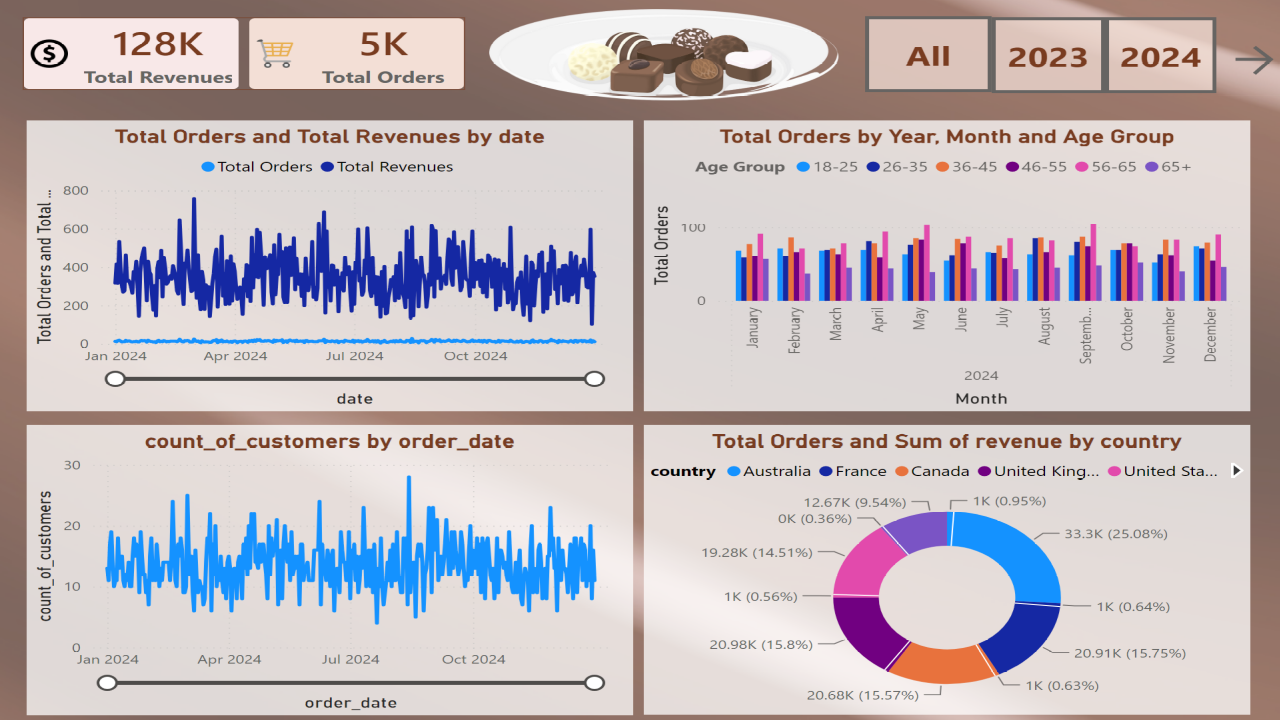

The page's visual inventory and layout, read from the dashboard file:
{"tool":"powerbi","page":{"name":"Summary By Date","canvas":[960,720],"ordinal":0},"visuals":[{"type":"lineChart","fields":{"Category":["Calendar.date"],"Y":["Sales.Total Orders","Sales.Total Revenues"]},"box":[19.8,119.1,455,287.7],"z":0},{"type":"donutChart","fields":{"Category":["Country_Mapping.country"],"Y":["Sales.Total Orders","Sum(Sales.revenue)"]},"box":[483.3,419.5,455,286.3],"z":1000},{"type":"lineChart","fields":{"Category":["Sales.order_date"],"Y":["Sales.count_of_customers"]},"box":[19.8,419.5,455,287],"z":2000},{"type":"clusteredColumnChart","fields":{"Category":["Calendar.date.Variation.Date Hierarchy.Year","Calendar.date.Variation.Date Hierarchy.Month"],"Series":["Customers.Age Group"],"Y":["Sales.Total Orders"]},"box":[483.3,119.1,455,287.7],"z":3000},{"type":"cardVisual","fields":{"Data":["Sales.Total Revenues","Sales.Total Orders"]},"box":[0,0,367.1,106.3],"z":4000},{"type":"actionButton","box":[744.1,17,85,75.1],"z":5000},{"type":"actionButton","box":[829.1,17,83.6,75.1],"z":6000},{"type":"actionButton","box":[649.1,15.6,95,75.1],"z":7000},{"type":"image","box":[367.1,1.4,262.2,106.3],"z":8000},{"type":"actionButton","box":[921.3,39.7,38.3,39.7],"z":9000}]}

Visuals, with their boxes on the page's 960x720 design canvas (x1, y1, x2, y2). These are canvas units, not pixel positions in the 1280x720 screenshot, which may show the page scaled, cropped or inside an application window:
lineChart - Calendar.date x Sales.Total Orders: box=[20, 119, 475, 407]
donutChart - Country_Mapping.country x Sales.Total Orders: box=[483, 420, 938, 706]
lineChart - Sales.order_date x Sales.count_of_customers: box=[20, 420, 475, 706]
clusteredColumnChart - Calendar.date.Variation.Date Hierarchy.Year x Calendar.date.Variation.Date Hierarchy.Month: box=[483, 119, 938, 407]
cardVisual - Sales.Total Revenues x Sales.Total Orders: box=[0, 0, 367, 106]
actionButton: box=[744, 17, 829, 92]
actionButton: box=[829, 17, 913, 92]
actionButton: box=[649, 16, 744, 91]
image: box=[367, 1, 629, 108]
actionButton: box=[921, 40, 960, 79]
